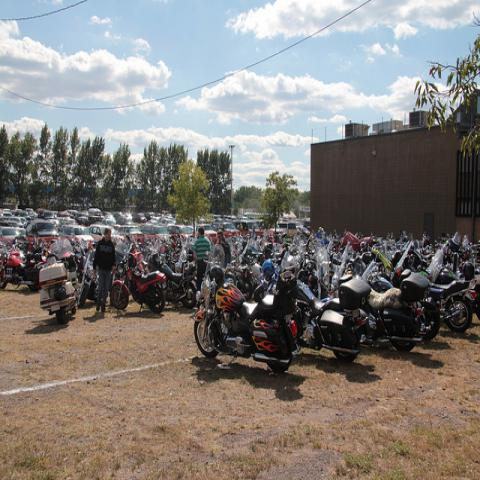car: (70, 224, 95, 241), (168, 224, 194, 240), (118, 227, 144, 242), (150, 226, 171, 242), (1, 228, 21, 240), (112, 212, 128, 226), (159, 218, 175, 230), (6, 220, 20, 229)
motorcycle: (0, 225, 478, 308), (194, 266, 304, 374), (342, 251, 444, 342), (394, 240, 477, 334), (297, 274, 371, 363), (362, 283, 424, 353), (110, 247, 168, 314), (37, 239, 82, 324), (147, 250, 198, 310), (236, 247, 262, 304), (296, 253, 318, 298), (276, 248, 302, 274), (136, 241, 152, 262)
